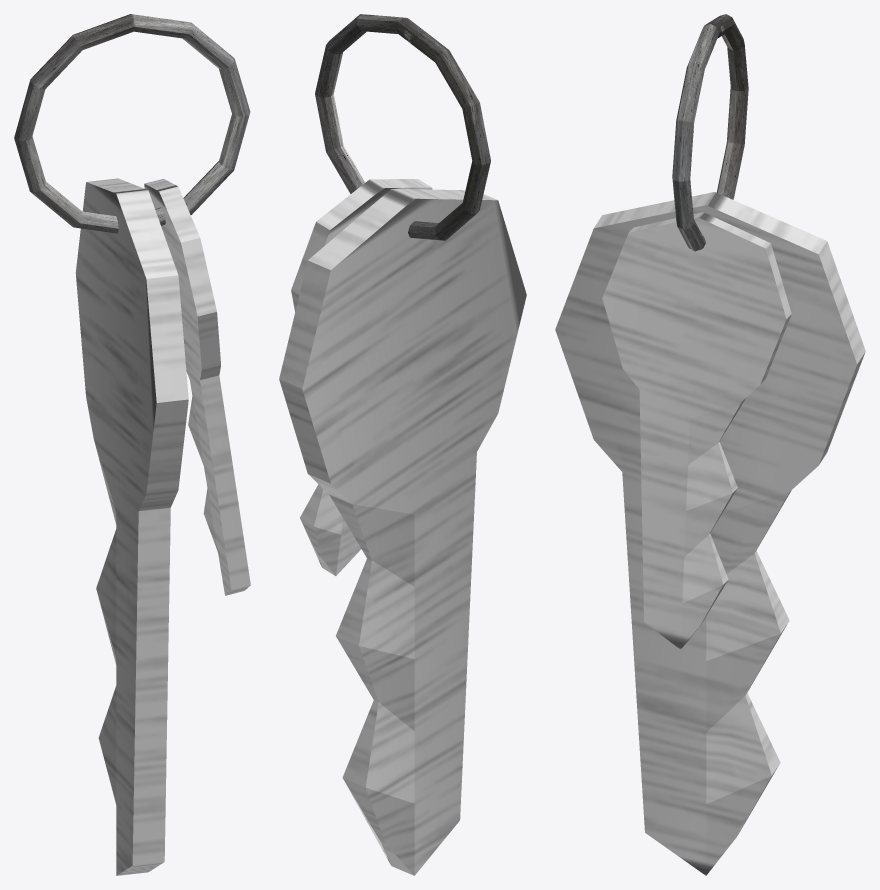
Rendered from Key.fbx.
3 views of the same model, side by side, from view 1: azimuth 30°, elevation 25°; view 2: azimuth 150°, elevation 25°; view 3: azimuth 270°, elevation 25° (orthographic).
Parts seen in each view (by area): view 1: Cube.016; view 2: Cube.016; view 3: Cube.016.
Boxes of the visible parts, x1=… form: Cube.016: x1=14, y1=14, x2=250, y2=875; Cube.016: x1=279, y1=14, x2=526, y2=875; Cube.016: x1=555, y1=14, x2=865, y2=875.
Size of the model in its own units: 0.919 by 1.23 by 3.7.
2 materials, 2 textured.
